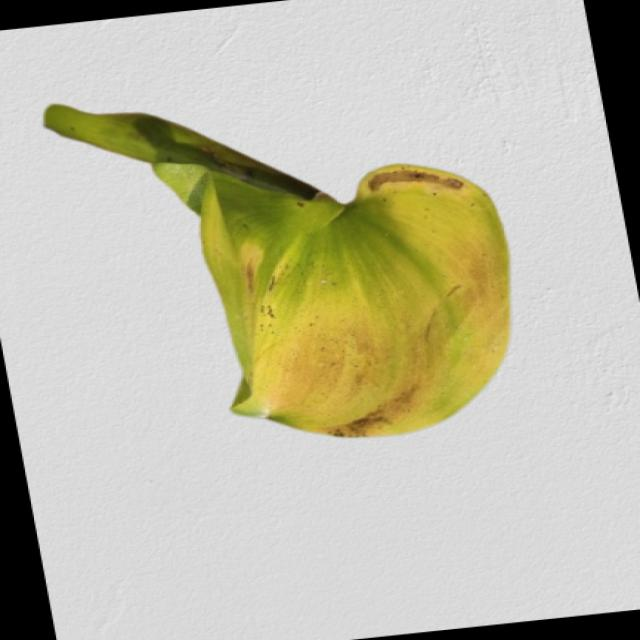daun berpenyakit kuning: (45, 105, 510, 436)
